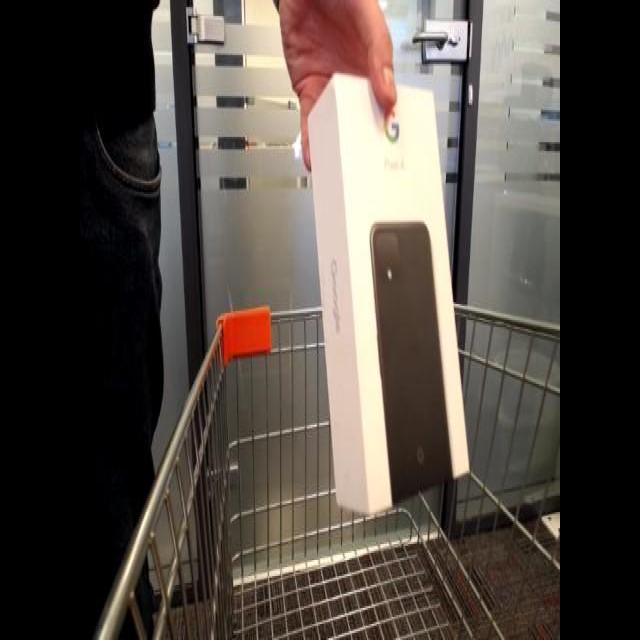Pixel 4: (302, 73, 468, 521)
